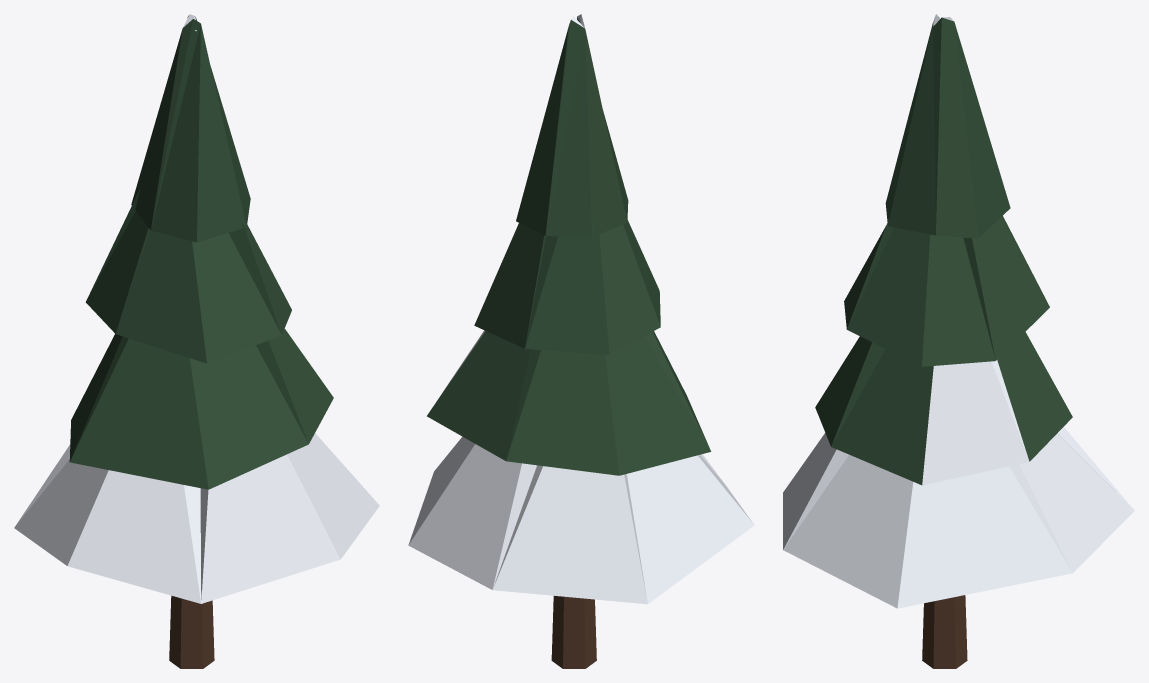
File: fir-2.glb
3 views of the same model, side by side, from view 1: azimuth 30°, elevation 25°; view 2: azimuth 150°, elevation 25°; view 3: azimuth 270°, elevation 25° (orthographic).
Parts seen in each view (by area): view 1: fir-2; view 2: fir-2; view 3: fir-2.
Boxes of the visible parts, x1,y1,x2,y2 form: fir-2: (14,14,379,668); fir-2: (408,14,754,668); fir-2: (783,14,1134,668).
Size of the model in its own units: 2.9 by 5.65 by 2.79.
